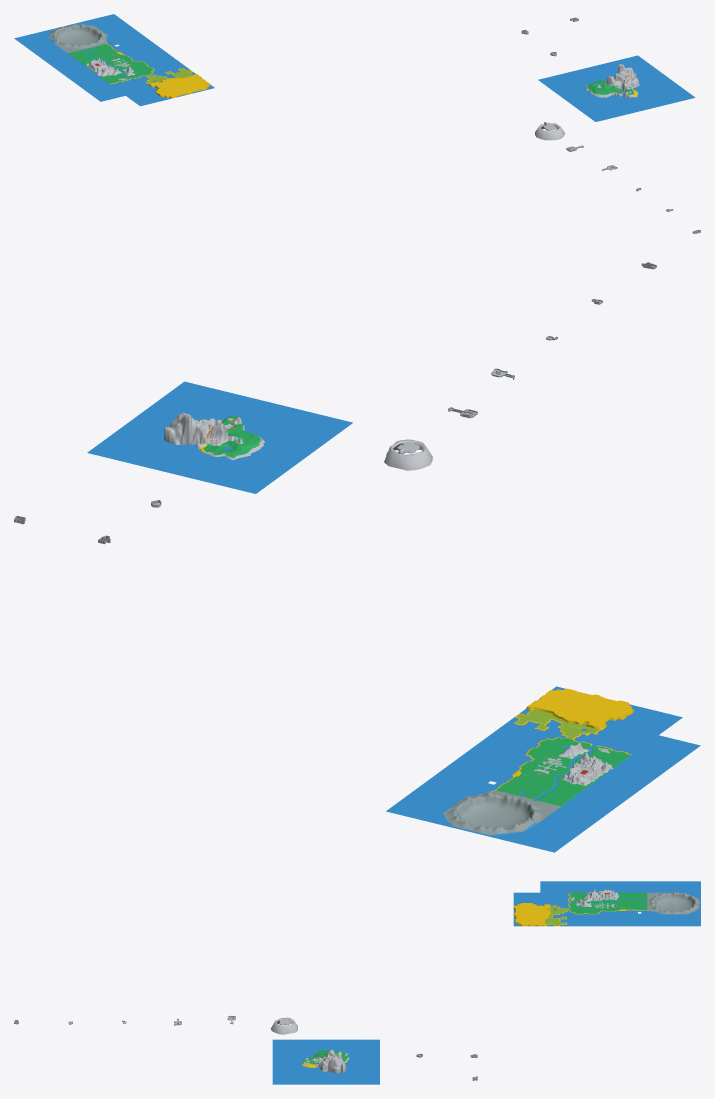
File: environment.glb
3 renders of one model, top to bottom at view 1: azimuth 30°, elevation 25°; view 2: azimuth 150°, elevation 25°; view 3: azimuth 270°, elevation 25°, orthographic. The views are drawn at different scales.
Parts seen in each view (by area): view 1: Seg-486-514, Seg-499-500, Seg-500-500, Seg-485-510, Seg-496-499, Seg-486-508, Seg-485-514, Seg-487-508, Seg-499-499, Seg-501-499, Seg-485-509, Seg-484-512 (+24 smaller); view 2: Seg-500-501, Seg-499-501, Seg-486-513, Seg-485-511, Seg-496-499, Seg-486-509, Seg-487-509, Seg-485-513, Seg-486-508, Seg-485-512, Seg-498-501, Seg-501-499 (+29 smaller); view 3: Seg-500-501, Seg-485-513, Seg-485-514, Seg-500-500, Seg-496-499, Seg-487-508, Seg-485-511, Seg-486-510, Seg-487-509, Seg-501-499, Seg-501-500, Seg-484-509 (+10 smaller).
Part boxes in pixels (box(x1,y1,x2,y2)): Seg-486-514: box(64, 20, 102, 42); Seg-499-500: box(592, 84, 630, 105); Seg-500-500: box(617, 77, 655, 99); Seg-485-510: box(97, 67, 135, 84); Seg-496-499: box(535, 122, 565, 140); Seg-486-508: box(151, 82, 189, 100); Seg-485-514: box(39, 26, 77, 44); Seg-487-508: box(176, 76, 214, 93); Seg-499-499: box(606, 99, 645, 115); Seg-501-499: box(656, 87, 695, 103); Seg-485-509: box(111, 79, 150, 95); Seg-484-512: box(43, 53, 81, 69); Seg-500-501: box(154, 412, 213, 455); Seg-499-501: box(196, 423, 261, 465); Seg-486-513: box(452, 786, 518, 824); Seg-485-511: box(544, 758, 609, 788); Seg-496-499: box(384, 439, 432, 470); Seg-486-509: box(550, 712, 615, 742); Seg-487-509: box(508, 702, 573, 732); Seg-485-513: box(495, 796, 560, 827); Seg-486-508: box(574, 695, 640, 724); Seg-485-512: box(519, 778, 585, 806); Seg-498-501: box(238, 448, 304, 475); Seg-501-499: box(160, 381, 226, 409); Seg-500-501: box(326, 1051, 352, 1073); Seg-485-513: box(647, 891, 674, 909); Seg-485-514: box(674, 891, 700, 909); Seg-500-500: box(299, 1057, 326, 1073); Seg-496-499: box(271, 1017, 297, 1034); Seg-487-508: box(513, 914, 540, 926); Seg-485-511: box(594, 889, 620, 903); Seg-486-510: box(567, 899, 593, 914); Seg-487-509: box(540, 914, 567, 926); Seg-501-499: box(272, 1073, 299, 1084); Seg-501-500: box(299, 1073, 326, 1084); Seg-484-509: box(540, 881, 567, 892).
Size of the model in its own units: 1152 by 58.01 by 1643.
10 materials, 9 textured.
